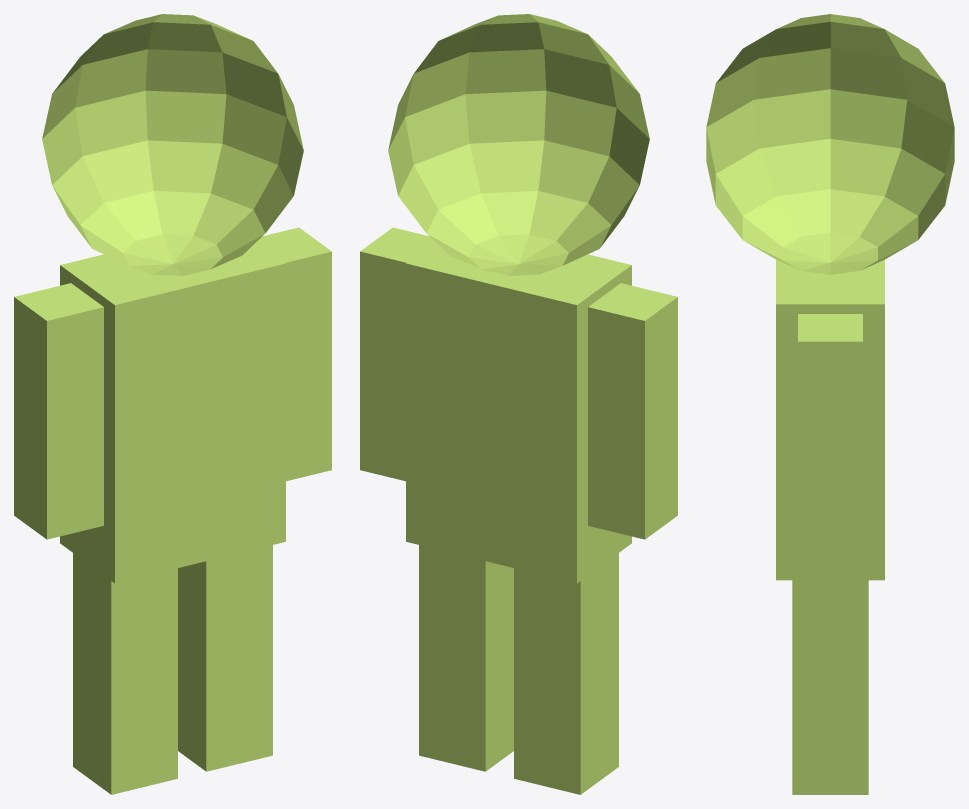
Rendered from player-green.glb.
3 renders of one model, left to right at view 1: azimuth 30°, elevation 25°; view 2: azimuth 150°, elevation 25°; view 3: azimuth 270°, elevation 25°, orthographic.
Visible parts, largest first — view 1: player-green; view 2: player-green; view 3: player-green.
Part boxes in pixels (x1,y1,x2,y2): player-green: (14,14,331,794); player-green: (360,14,677,794); player-green: (706,14,954,794).
Bounding box in the file's own units: 0.3 × 0.74 × 0.2283.
